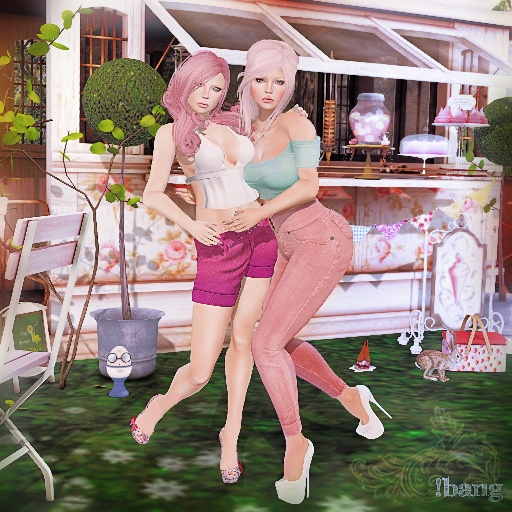hand: (222, 207, 264, 233), (189, 219, 222, 247), (174, 187, 195, 204), (284, 103, 309, 117)
